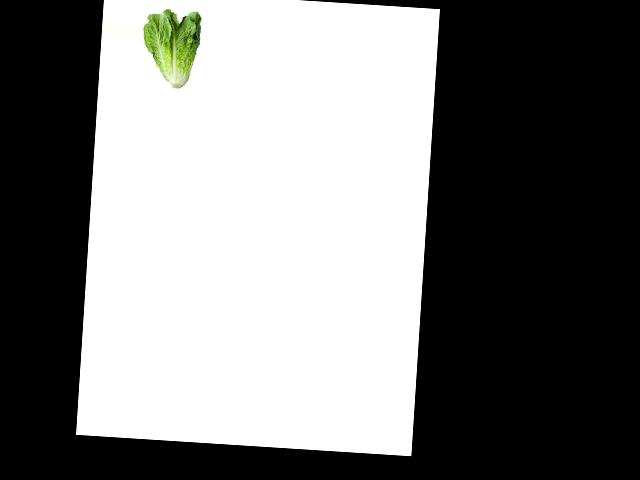lettuce: (140, 7, 203, 91)
